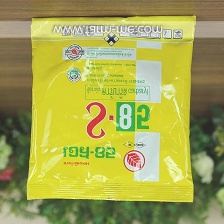insecticide: (21, 11, 201, 206)
